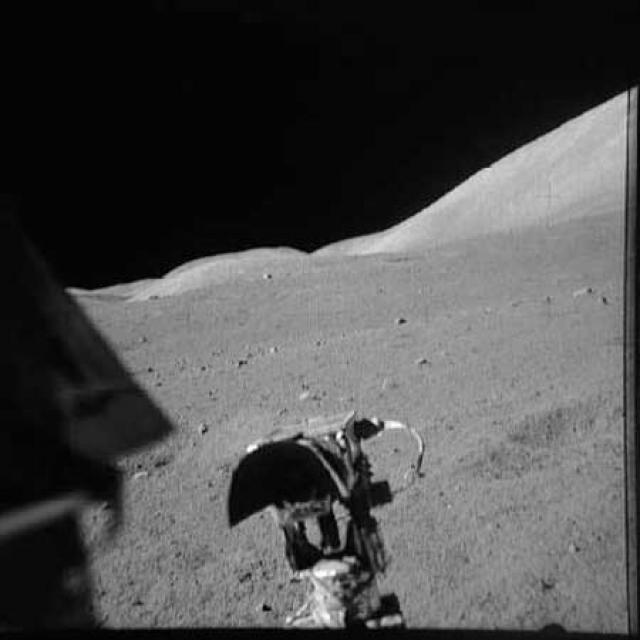artifact: (1, 203, 186, 632), (217, 401, 433, 639)
crater: (452, 380, 634, 488)
